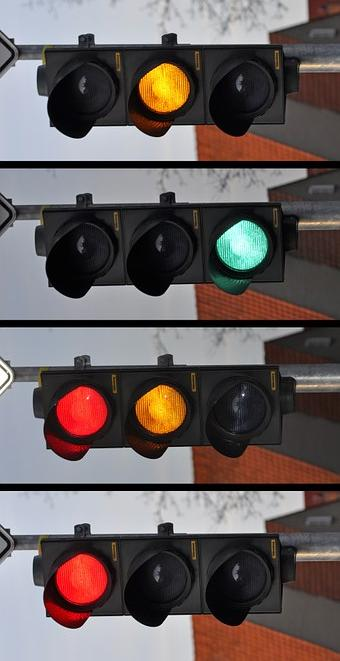trafic: (42, 535, 278, 620), (41, 363, 277, 448), (44, 205, 280, 290), (47, 43, 283, 128)
